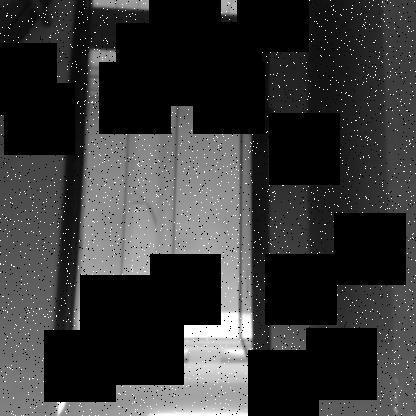Porte: (48, 1, 278, 380)
